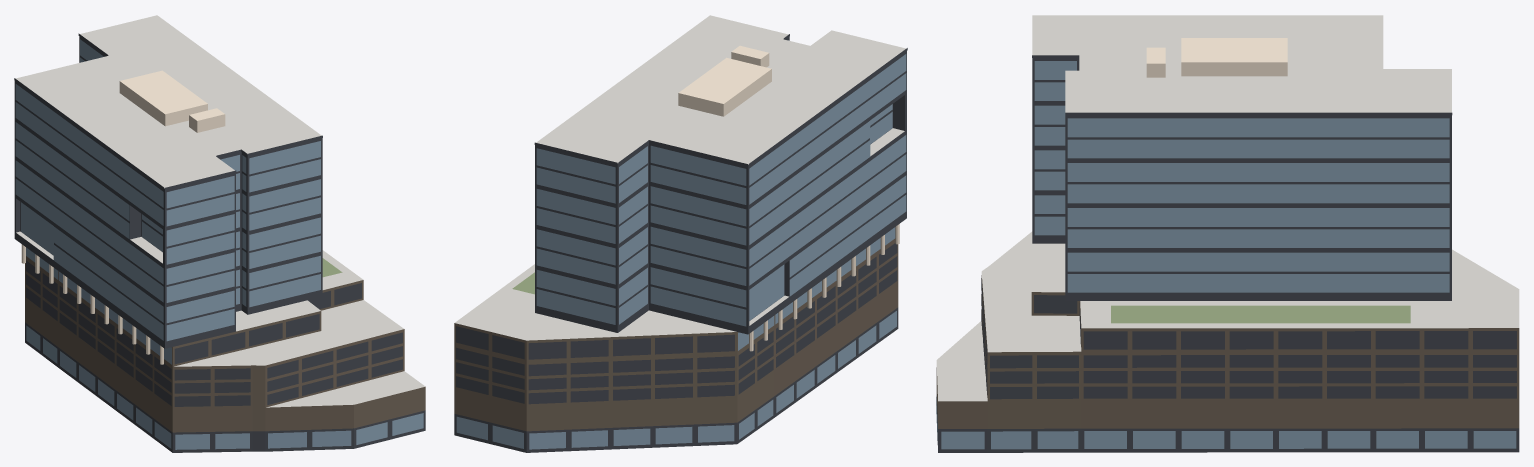
The model's file is clt-the-line.glb.
3 views of the same model, side by side, from view 1: azimuth 30°, elevation 25°; view 2: azimuth 150°, elevation 25°; view 3: azimuth 270°, elevation 25° (orthographic). The views are drawn at different scales.
Parts seen in each view (by area): view 1: The Line; view 2: The Line; view 3: The Line.
Boxes of the visible parts, x1,y1,x2,y2 form: The Line: (14, 15, 425, 452); The Line: (454, 15, 907, 452); The Line: (936, 15, 1519, 452).
Bounding box in the file's own units: 57.78 × 69.5 × 113.
